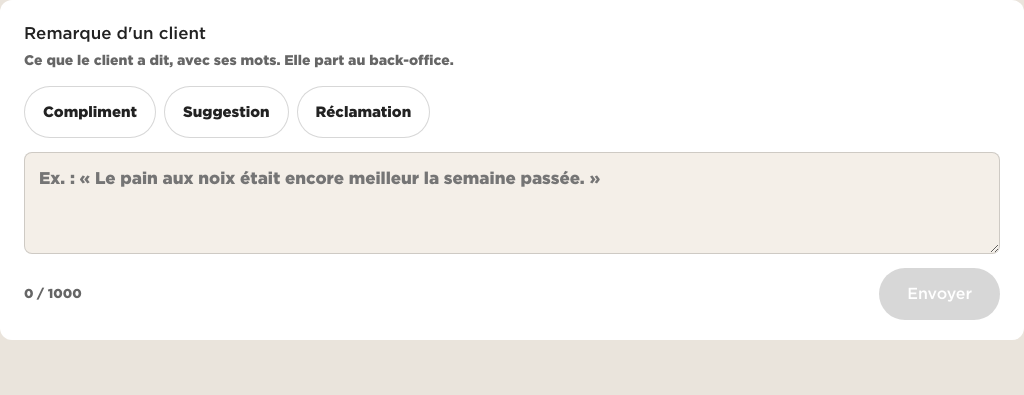
RemarkForm › offline: kept on the tablet and said so; then counted as waiting
Click the button "Réclamation".
click(363, 112)  # box [296, 86, 430, 138]
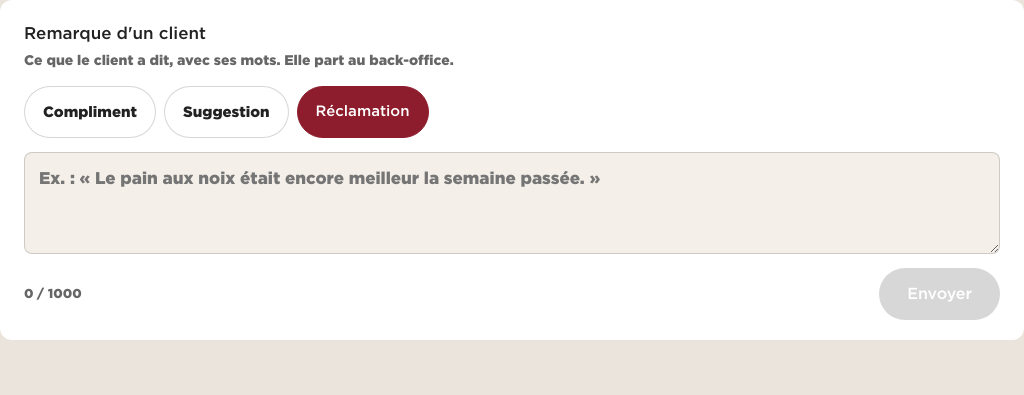
Replace the text in the text box with "Le croissant était rassis." at (512, 203), box [24, 152, 1000, 254]
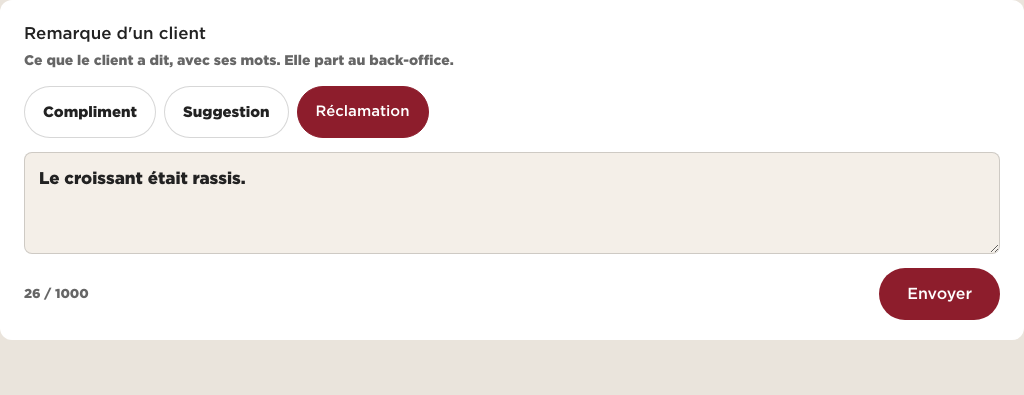
Click the button "Envoyer".
click(940, 294)  # box [879, 268, 1000, 320]
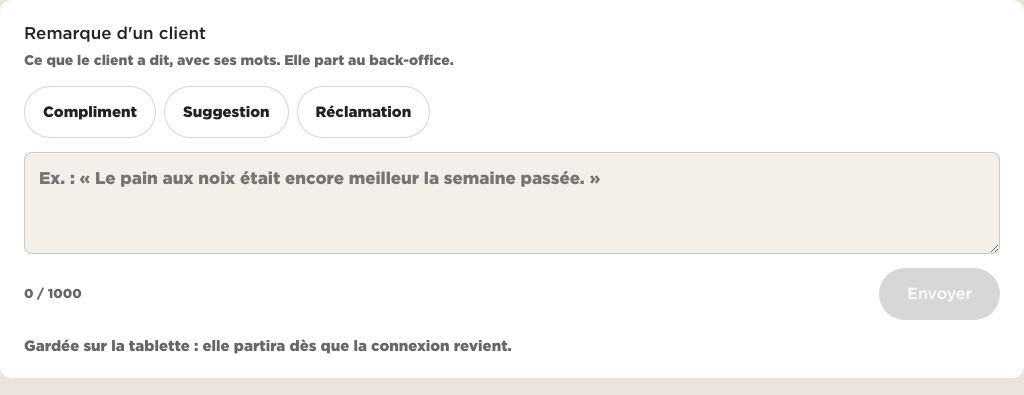
Result: the message reads "Gardée sur la tablette : elle partira dès que la connexion revient." at [24, 337, 512, 354]
Result: the text box is empty
Replace the text in the text box with "A" at (512, 203), box [24, 152, 1000, 254]
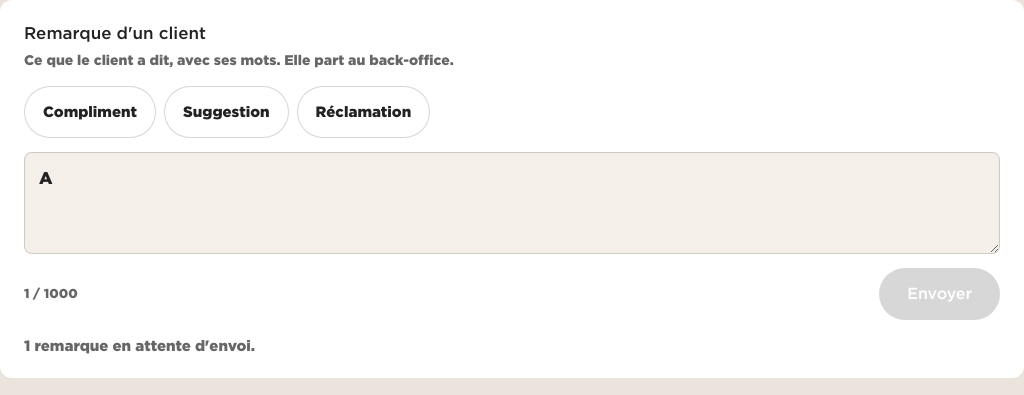
Result: the message reads "1 remarque en attente d'envoi." at [24, 337, 255, 354]
